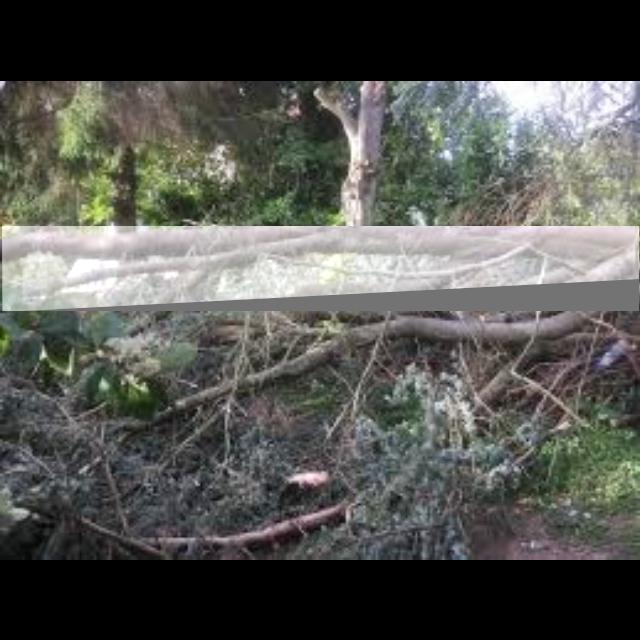fallen_tree: (2, 226, 640, 312)
